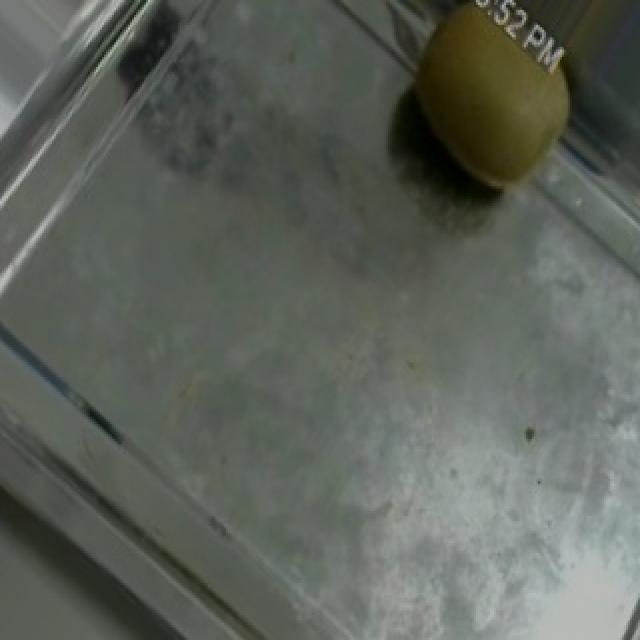Fruit: (384, 0, 604, 223)
